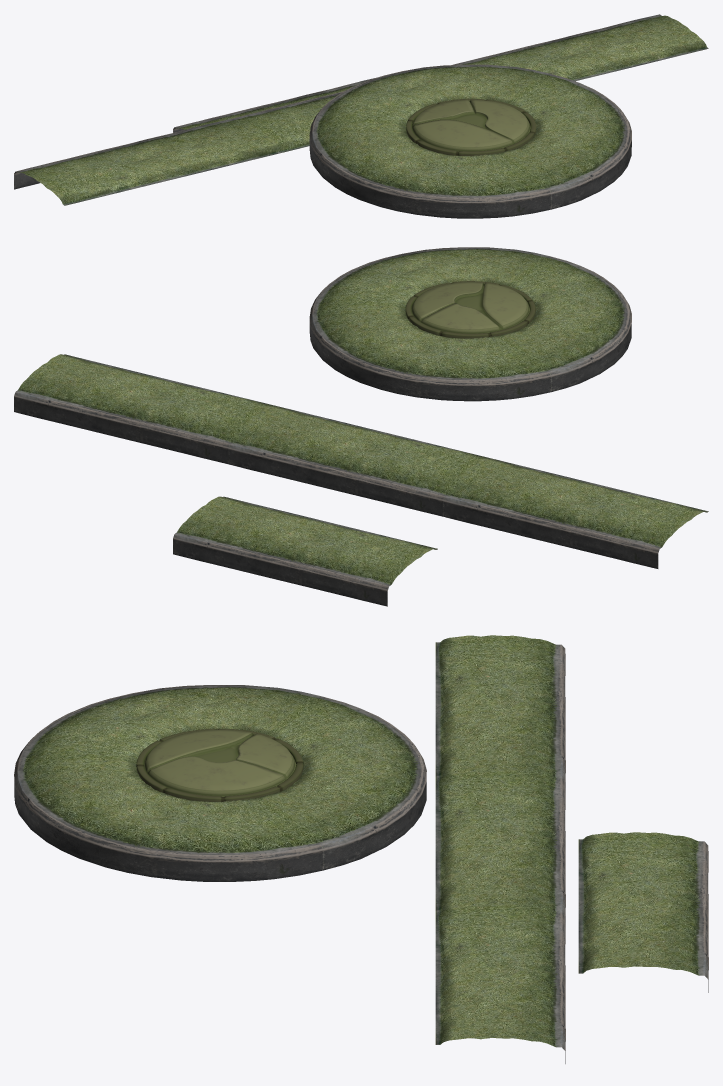
File: grass_strip.glb
The picture shows the model from 3 angles, top to bottom: view 1: azimuth 30°, elevation 25°; view 2: azimuth 150°, elevation 25°; view 3: azimuth 270°, elevation 25°; orthographic projection. The views are drawn at different scales.
Visible parts, largest first — view 1: Object_3, Object_2; view 2: Object_3, Object_2; view 3: Object_3, Object_2.
Boxes of the visible parts, x1,y1,x2,y2 form: Object_3: (14,14,708,218); Object_2: (406,98,536,156); Object_3: (14,247,708,606); Object_2: (405,281,535,338); Object_3: (14,635,708,1063); Object_2: (136,728,303,801).
Bounding box in the file's own units: 59.99 × 12.5 × 43.76.
Materials: 2 (2 with a texture image).
